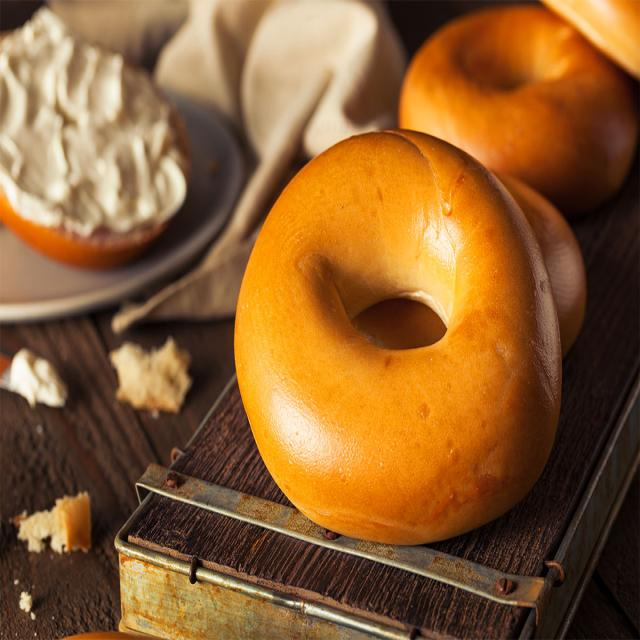Bagel: (235, 129, 561, 545), (399, 6, 638, 214)
